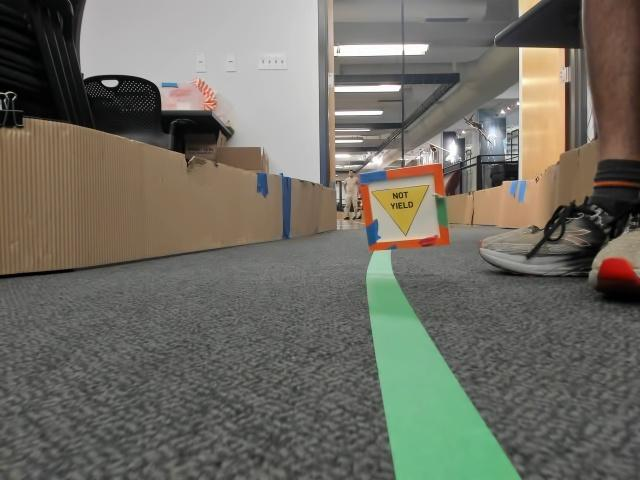Do Not Yield: (372, 190, 428, 238)
